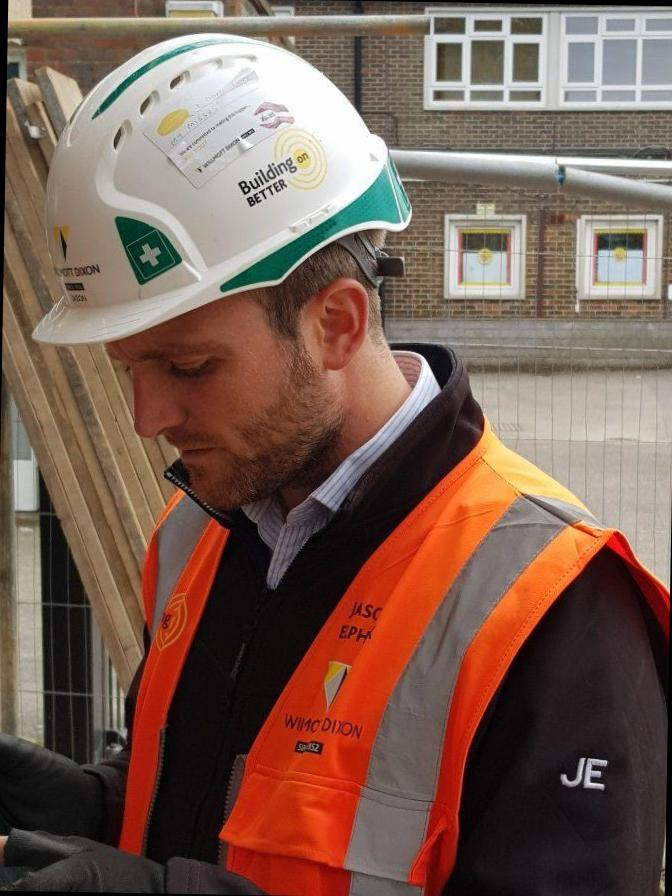Helmet: (26, 23, 452, 359)
Vest: (123, 434, 672, 896)
